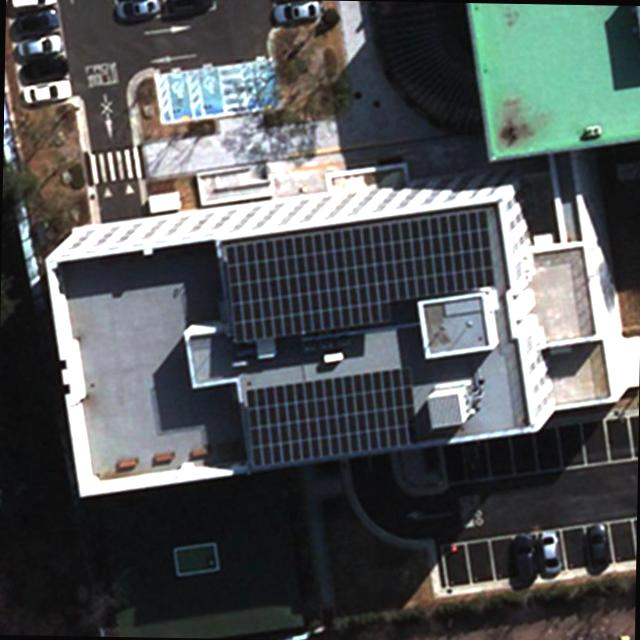solar: (216, 201, 492, 348), (238, 358, 424, 472)
